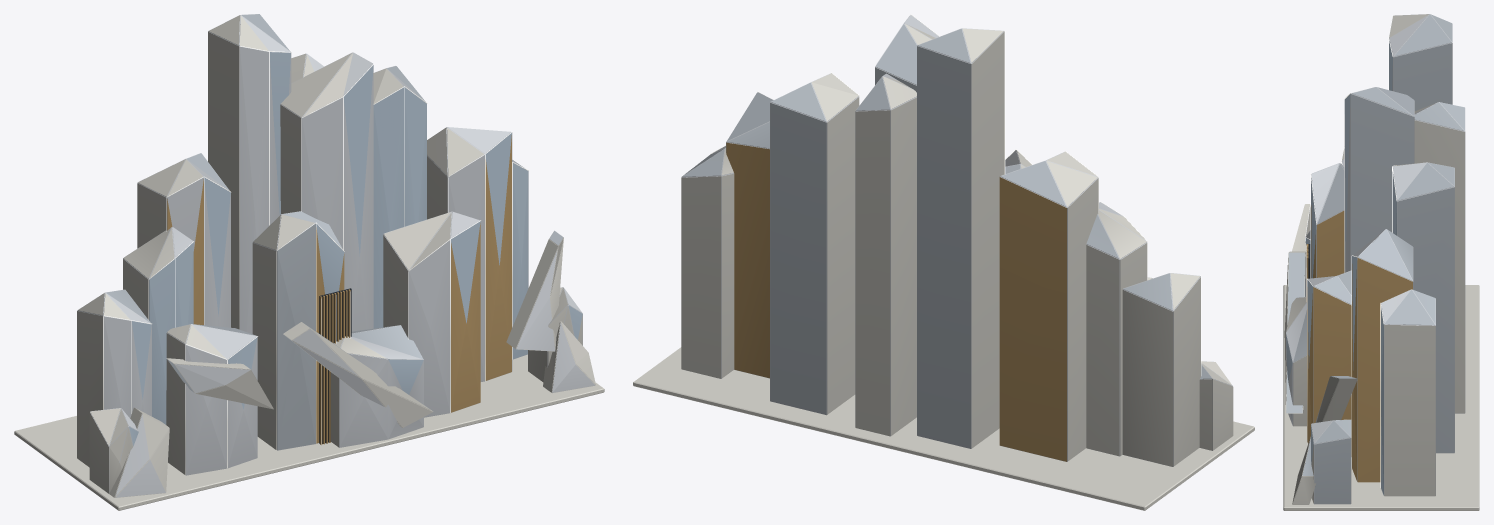
Rendered from projection-crystals.glb.
The picture shows the model from 3 angles, left to right: view 1: azimuth 30°, elevation 25°; view 2: azimuth 150°, elevation 25°; view 3: azimuth 270°, elevation 25°; orthographic projection. The views are drawn at different scales.
Visible parts, largest first — view 1: Projection Crystals | ivory sculpted return, Projection Crystals | white projected sculpted facade, Projection Crystals | white projected sculpted facade | pale, Projection Crystals | crystal champagne gold facet, Projection Crystals | crystal brushed silver facet, Projection Crystals | warm narrow architectural rib, Projection Crystals | dark crystal recessed joint; view 2: Projection Crystals | ivory sculpted return, Projection Crystals | crystal brushed silver facet, Projection Crystals | crystal champagne gold facet, Projection Crystals | white projected sculpted facade, Projection Crystals | warm narrow architectural rib; view 3: Projection Crystals | crystal brushed silver facet, Projection Crystals | ivory sculpted return, Projection Crystals | crystal champagne gold facet, Projection Crystals | white projected sculpted facade, Projection Crystals | white projected sculpted facade | pale, Projection Crystals | warm narrow architectural rib.
Part boxes in pixels (x1,y1,x2,y2): Projection Crystals | ivory sculpted return: (14, 15, 604, 510); Projection Crystals | white projected sculpted facade: (77, 14, 595, 497); Projection Crystals | white projected sculpted facade | pale: (129, 52, 582, 445); Projection Crystals | crystal champagne gold facet: (167, 135, 511, 444); Projection Crystals | crystal brushed silver facet: (106, 14, 563, 450); Projection Crystals | warm narrow architectural rib: (103, 46, 528, 475); Projection Crystals | dark crystal recessed joint: (319, 288, 351, 443); Projection Crystals | ivory sculpted return: (633, 23, 1254, 510); Projection Crystals | crystal brushed silver facet: (682, 24, 1211, 448); Projection Crystals | crystal champagne gold facet: (726, 142, 1066, 461); Projection Crystals | white projected sculpted facade: (681, 15, 1232, 466); Projection Crystals | warm narrow architectural rib: (710, 14, 1201, 375); Projection Crystals | crystal brushed silver facet: (1286, 14, 1464, 503); Projection Crystals | ivory sculpted return: (1283, 14, 1479, 510); Projection Crystals | crystal champagne gold facet: (1306, 205, 1412, 482); Projection Crystals | white projected sculpted facade: (1286, 14, 1465, 504); Projection Crystals | white projected sculpted facade | pale: (1286, 41, 1396, 495); Projection Crystals | warm narrow architectural rib: (1305, 15, 1396, 487).
Bounding box in the file's own units: 4.3 × 3.3 × 1.6.
